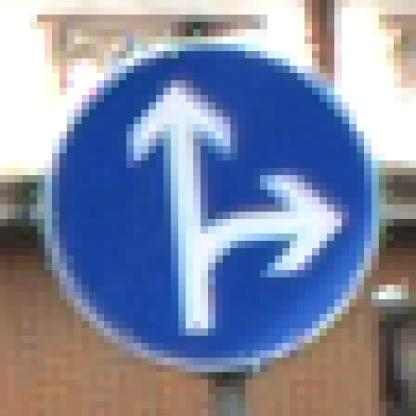Straight or Right: (38, 45, 380, 380)
